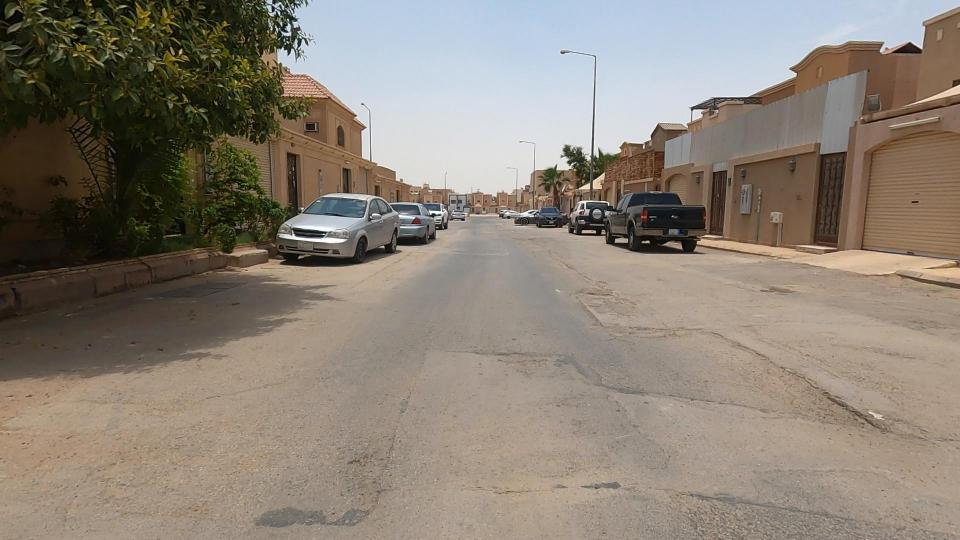POTHOLES: (672, 287, 960, 514), (506, 240, 696, 373)
